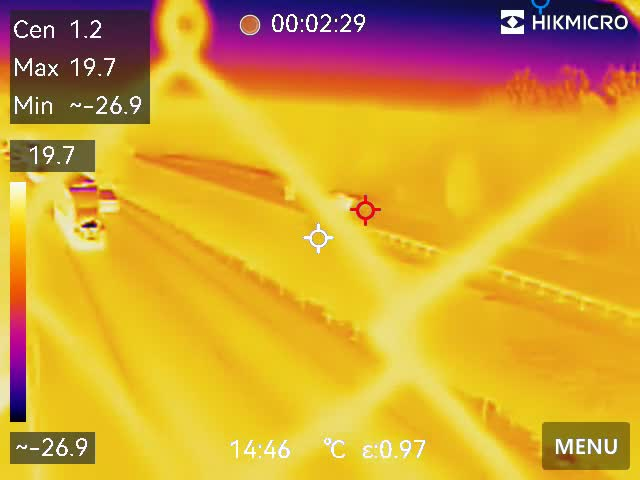heavyTruck: (48, 163, 112, 253)
